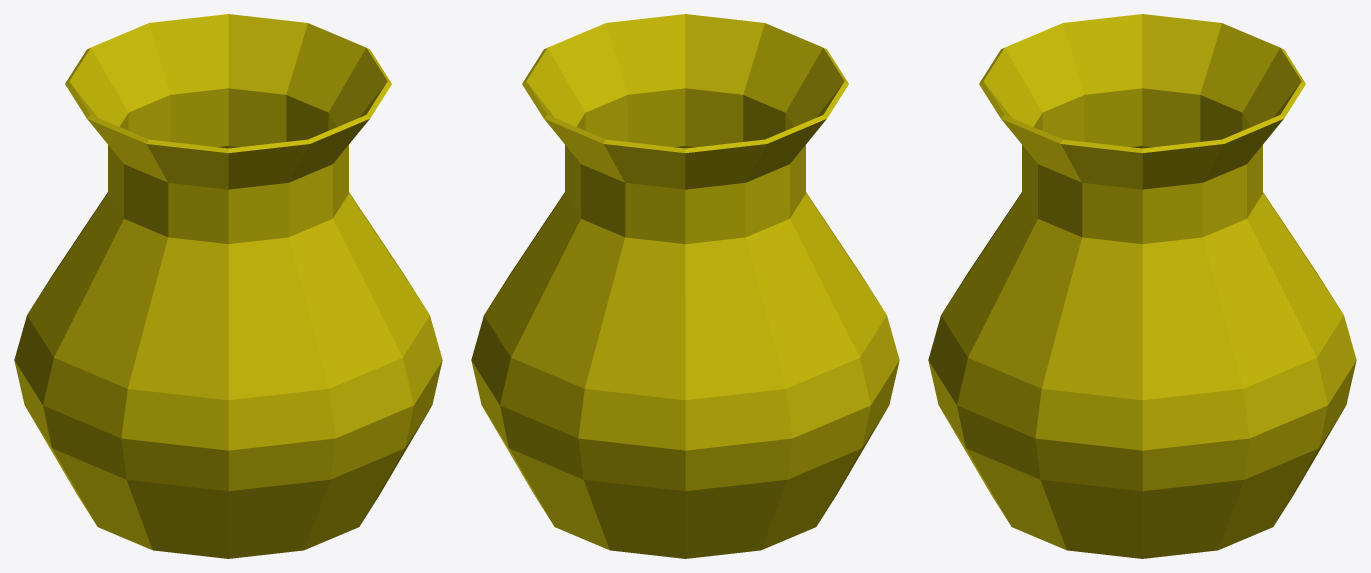
File: Jug_01.fbx
3 renders of one model, left to right at view 1: azimuth 30°, elevation 25°; view 2: azimuth 150°, elevation 25°; view 3: azimuth 270°, elevation 25°, orthographic.
Parts seen in each view (by area): view 1: Jug_01; view 2: Jug_01; view 3: Jug_01.
Boxes of the visible parts, box(x1,y1,x2,y2) form: Jug_01: box(14, 14, 442, 558); Jug_01: box(471, 14, 899, 558); Jug_01: box(928, 14, 1356, 558).
Size of the model in its own units: 23.79 by 25.36 by 23.79.
